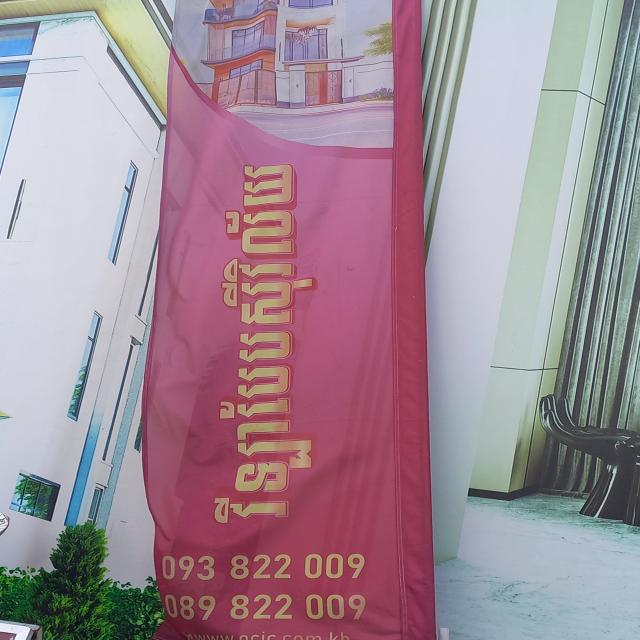427: (162, 594, 372, 620)
452: (161, 549, 371, 581)
Yolov11kh: (204, 154, 320, 528)
